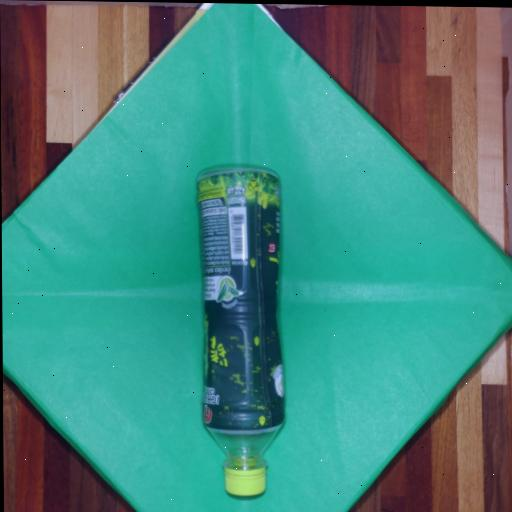bottle: (193, 162, 296, 504)
